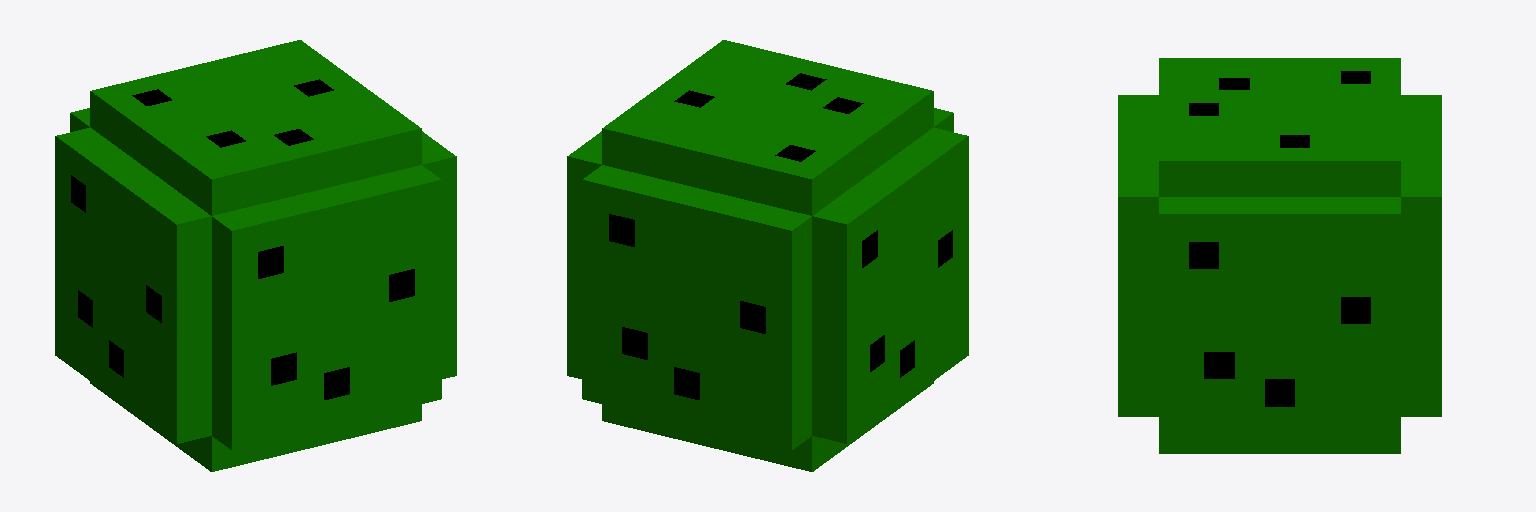
The picture shows the model from 3 angles: view 1: azimuth 30°, elevation 25°; view 2: azimuth 150°, elevation 25°; view 3: azimuth 270°, elevation 25°; orthographic projection.
Visible parts, largest first — view 1: cube; view 2: cube; view 3: cube.
Part boxes in pixels (x1,y1,x2,y2): cube: (55,40,456,471); cube: (567,40,968,471); cube: (1118,58,1441,453).
Bounding box in the file's own units: 0.5 × 0.5 × 0.5.
2 materials, 1 textured.